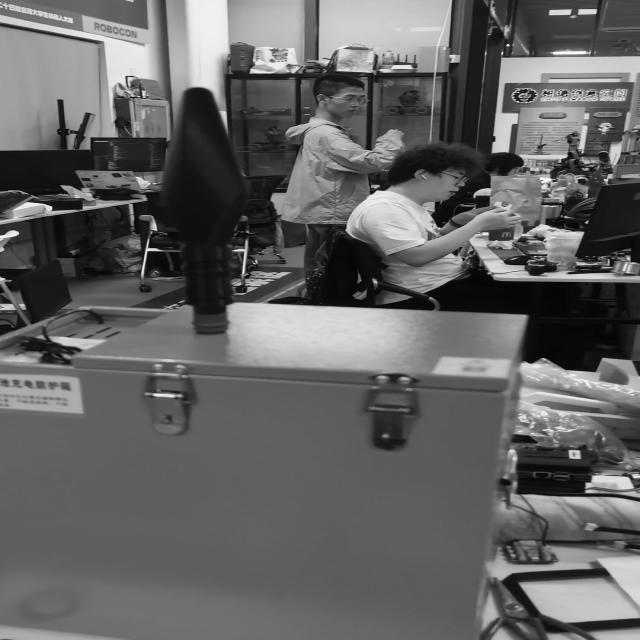base: (190, 314, 232, 334)
